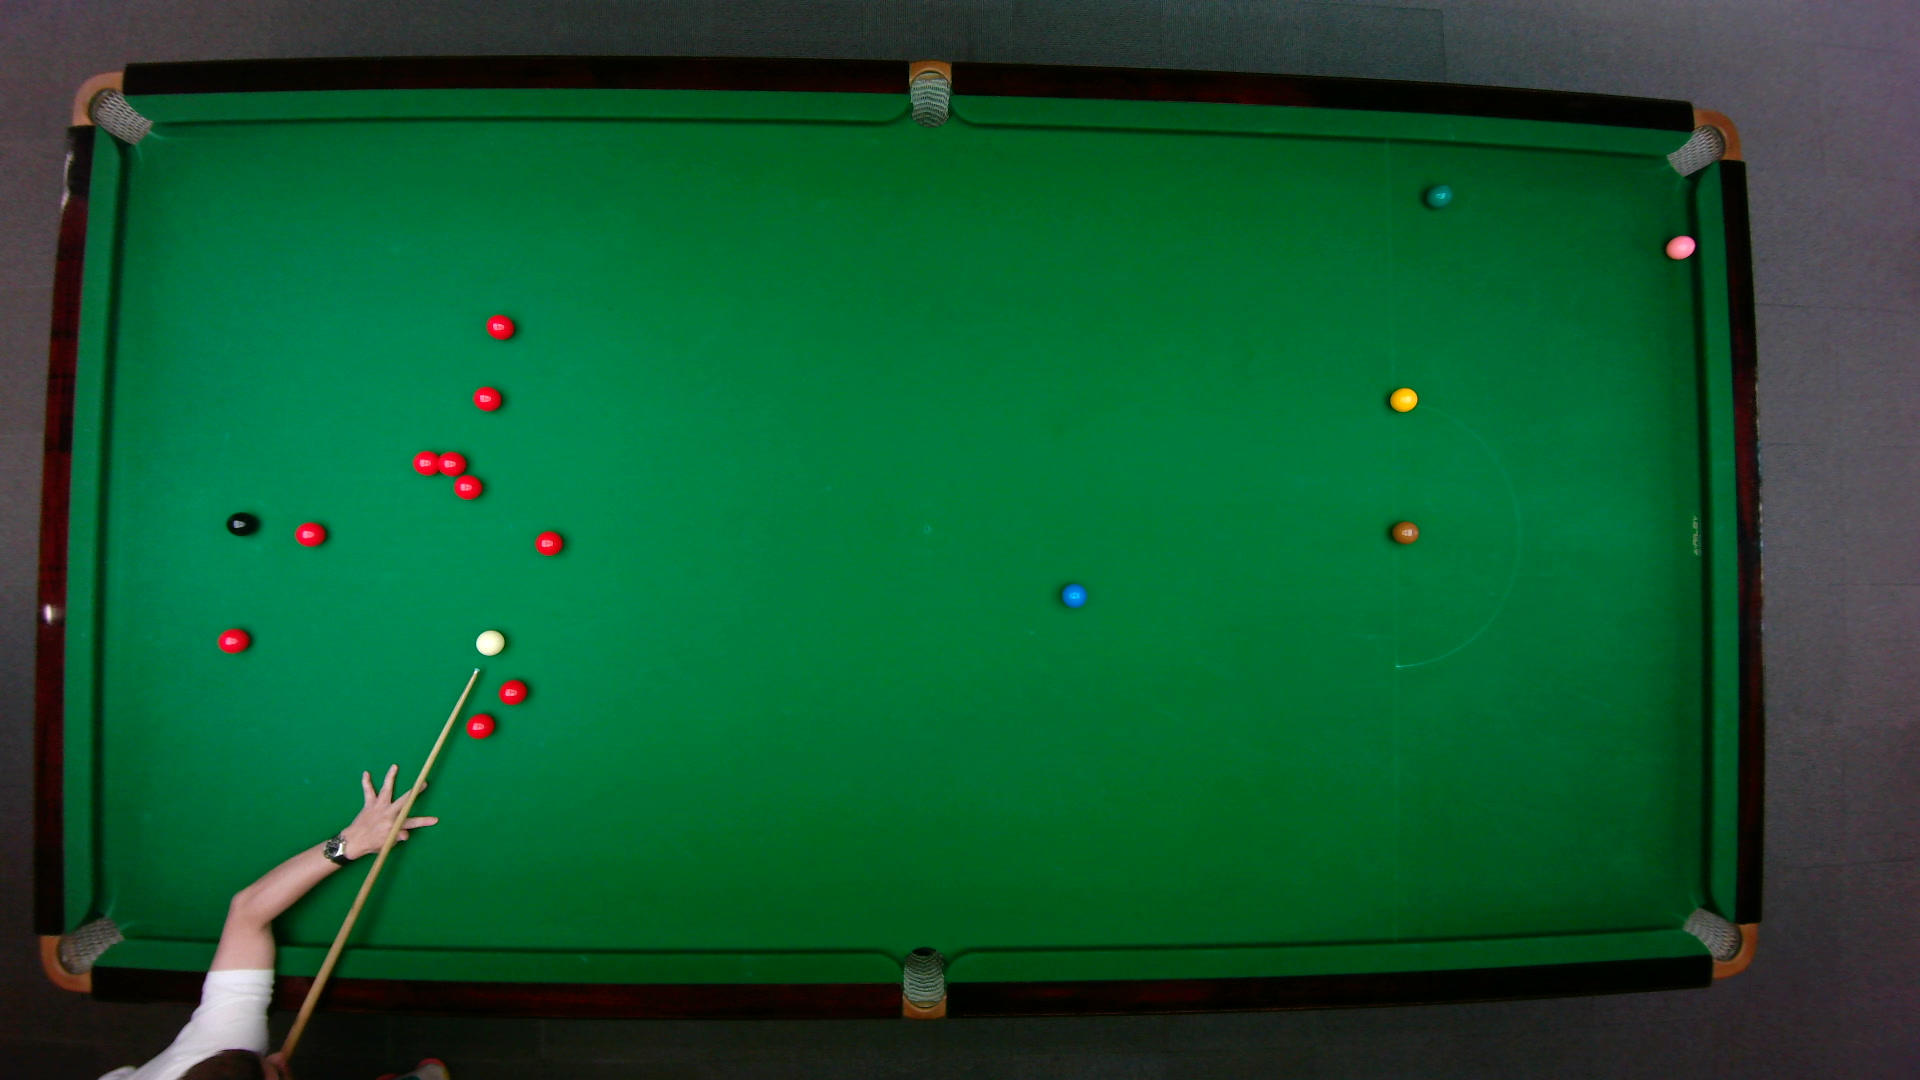bag: (38, 914, 125, 992), (69, 69, 153, 145), (1679, 905, 1758, 978), (1663, 107, 1741, 177), (901, 944, 944, 1021), (909, 57, 949, 128)
black: (224, 510, 257, 535)
blue: (1059, 582, 1087, 608)
brown: (1390, 520, 1419, 545)
cue: (269, 662, 483, 1073)
green: (1423, 182, 1453, 208)
pink: (1663, 232, 1697, 260)
red: (215, 626, 251, 653), (483, 313, 516, 340), (471, 384, 502, 411), (496, 678, 527, 705), (531, 529, 563, 556), (294, 520, 324, 547), (410, 448, 440, 476), (436, 448, 467, 476), (464, 712, 495, 738), (451, 473, 483, 498)
white: (473, 628, 506, 655)
yellow: (1387, 385, 1419, 411)
zone: (1390, 402, 1520, 669)
